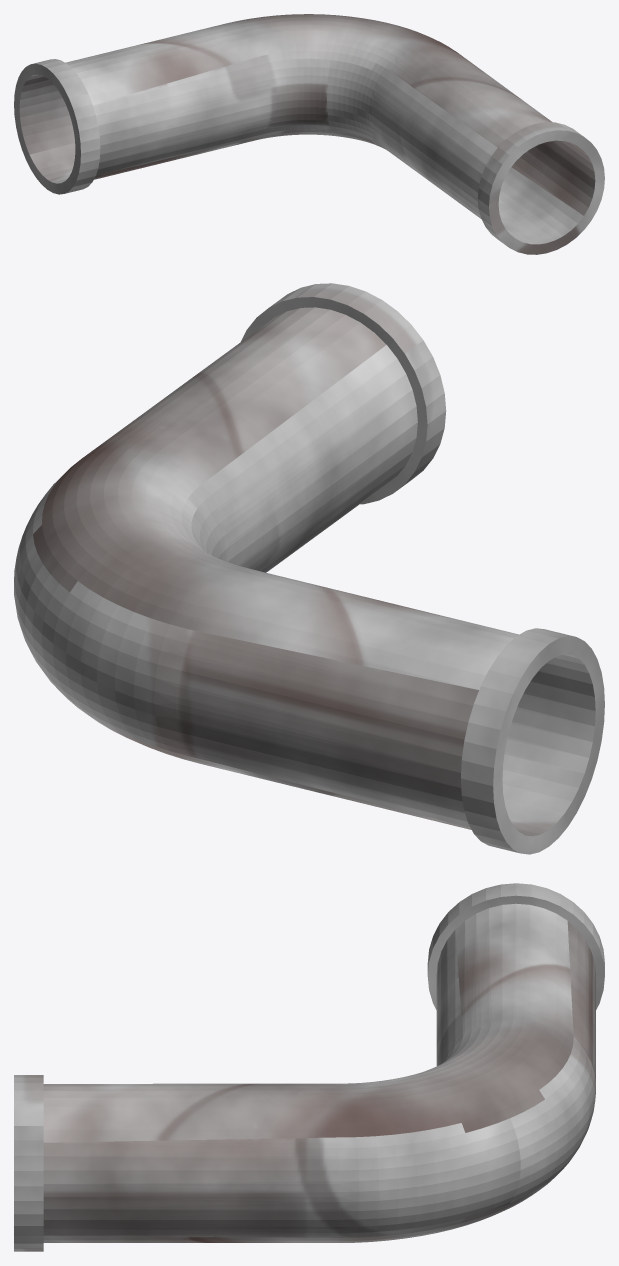
File: Pipe curve 1.glb
3 views of the same model, one above another, from view 1: azimuth 30°, elevation 25°; view 2: azimuth 150°, elevation 25°; view 3: azimuth 270°, elevation 25° (orthographic). The views are drawn at different scales.
Visible parts, largest first — view 1: Pipe turn WE; view 2: Pipe turn WE; view 3: Pipe turn WE.
Boxes of the visible parts, <box> form: Pipe turn WE: <box>14,14,604,254</box>; Pipe turn WE: <box>14,283,604,854</box>; Pipe turn WE: <box>14,883,604,1251</box>.
Size of the model in its own units: 13.51 by 4.27 by 14.23.
Materials: 1 (1 with a texture image).
